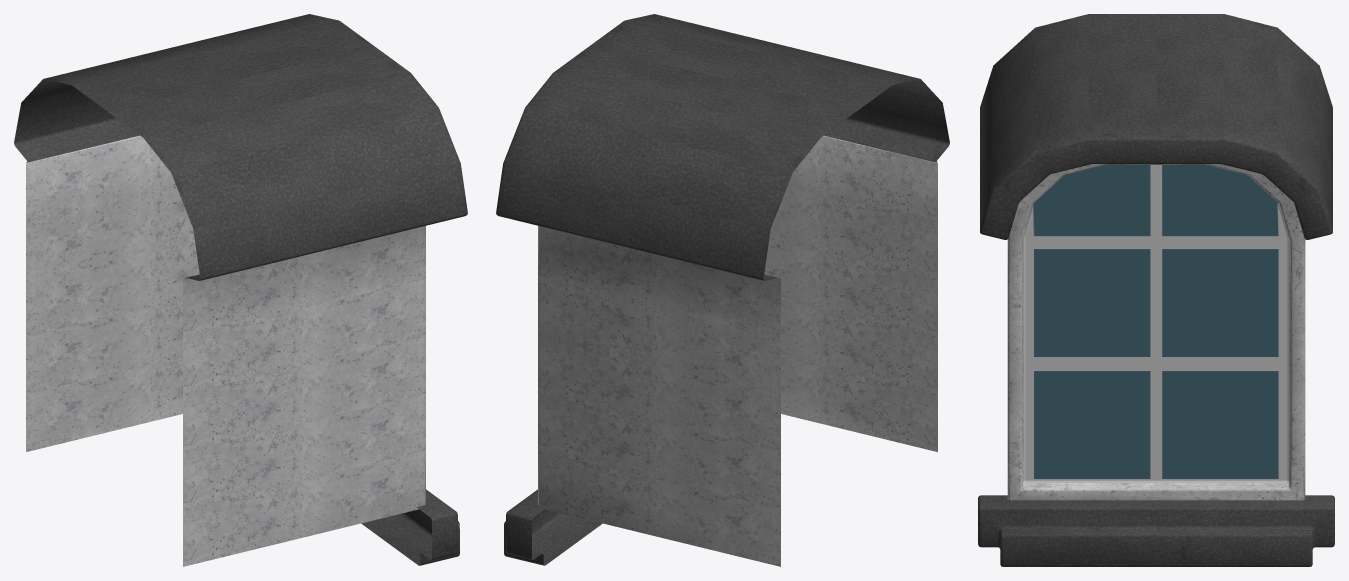
File: RoofWindow.fbx
The picture shows the model from 3 angles, left to right: view 1: azimuth 30°, elevation 25°; view 2: azimuth 150°, elevation 25°; view 3: azimuth 270°, elevation 25°; orthographic projection. The views are drawn at different scales.
Visible parts, largest first — view 1: RoofWindow; view 2: RoofWindow; view 3: RoofWindow.
Boxes of the visible parts, bbox=[...] form: RoofWindow: bbox=[14, 14, 467, 566]; RoofWindow: bbox=[496, 14, 949, 566]; RoofWindow: bbox=[978, 14, 1334, 566].
Size of the model in its own units: 120 by 159 by 101.
2 materials, 2 textured.
